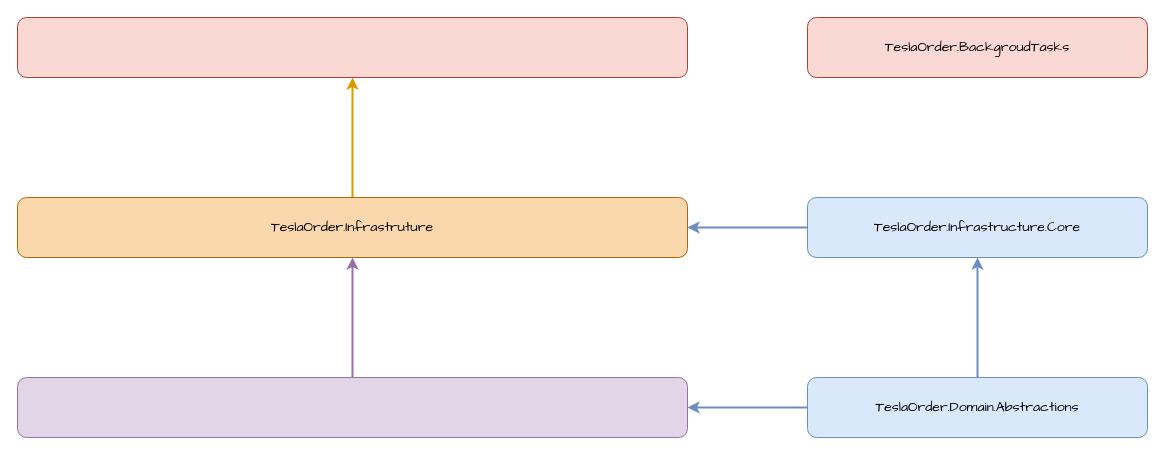
The diagram is 1165 pixels wide and 455 high, and some of its shapes have lost their labels. Each missing label, with the centre of its shape:
TeslaOrder.API: (352,47)
TeslaOrder.Domain: (352,407)
